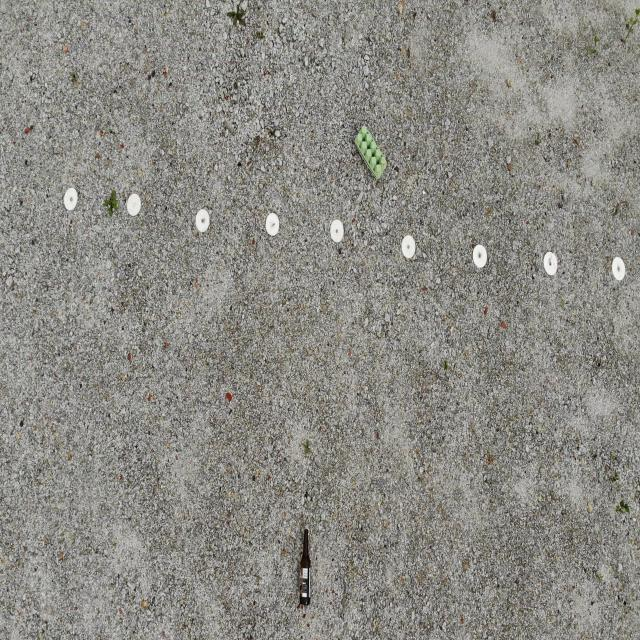rubbish: (353, 121, 387, 182), (298, 528, 313, 607)
